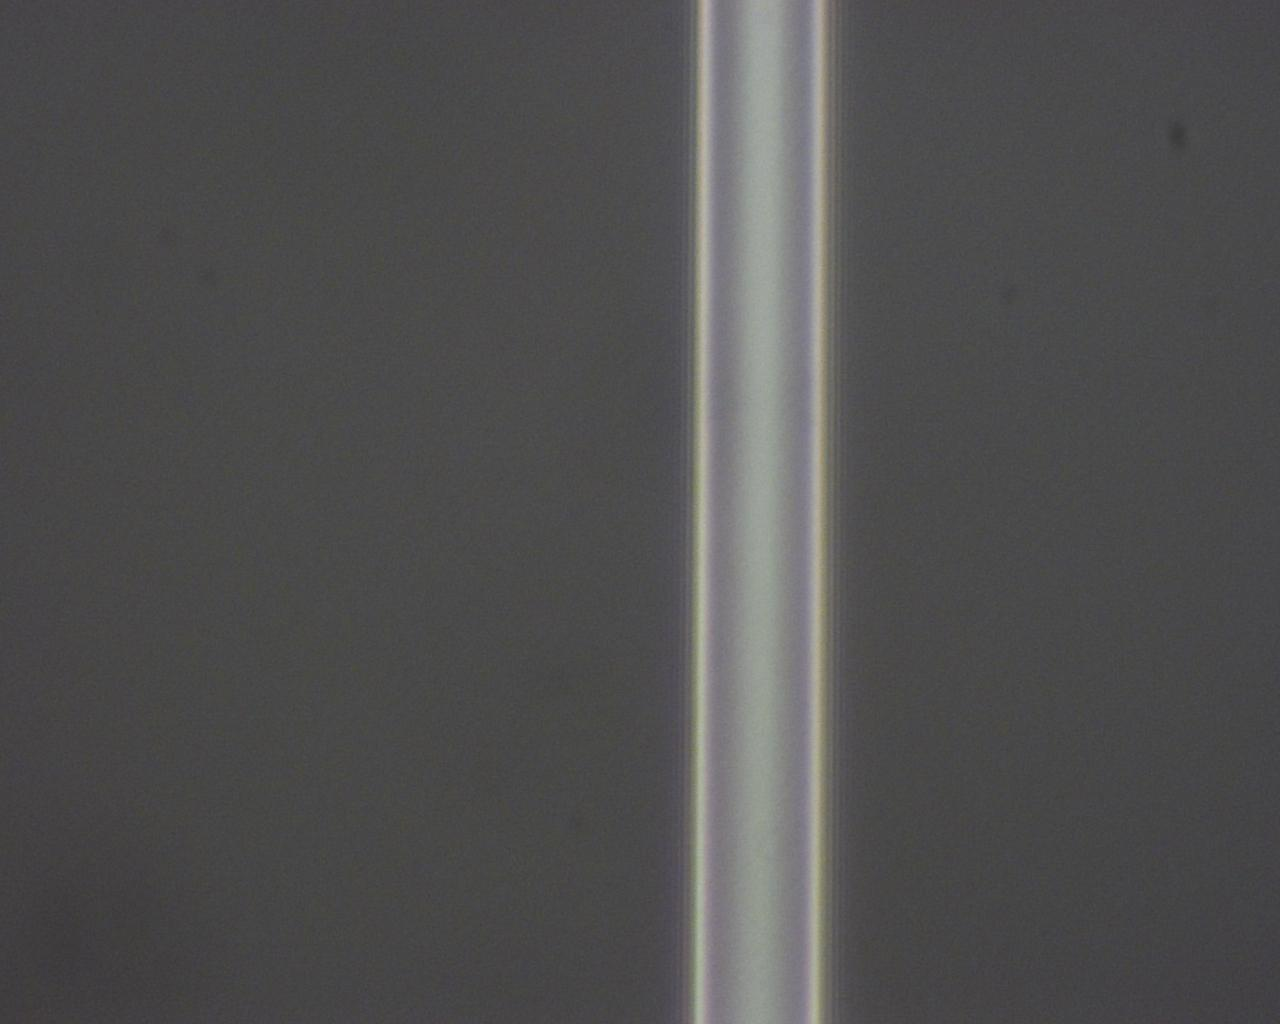fiber: (652, 698, 1280, 1024), (398, 0, 652, 348), (0, 938, 652, 1024)
